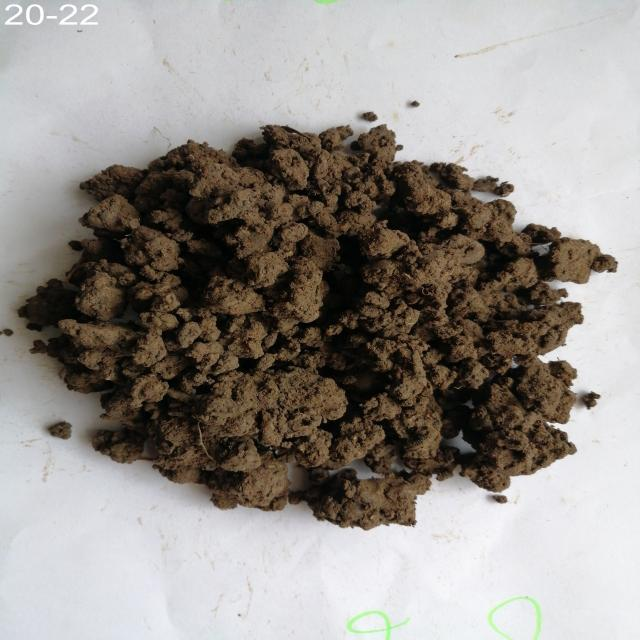soil: (160, 177, 514, 430)
